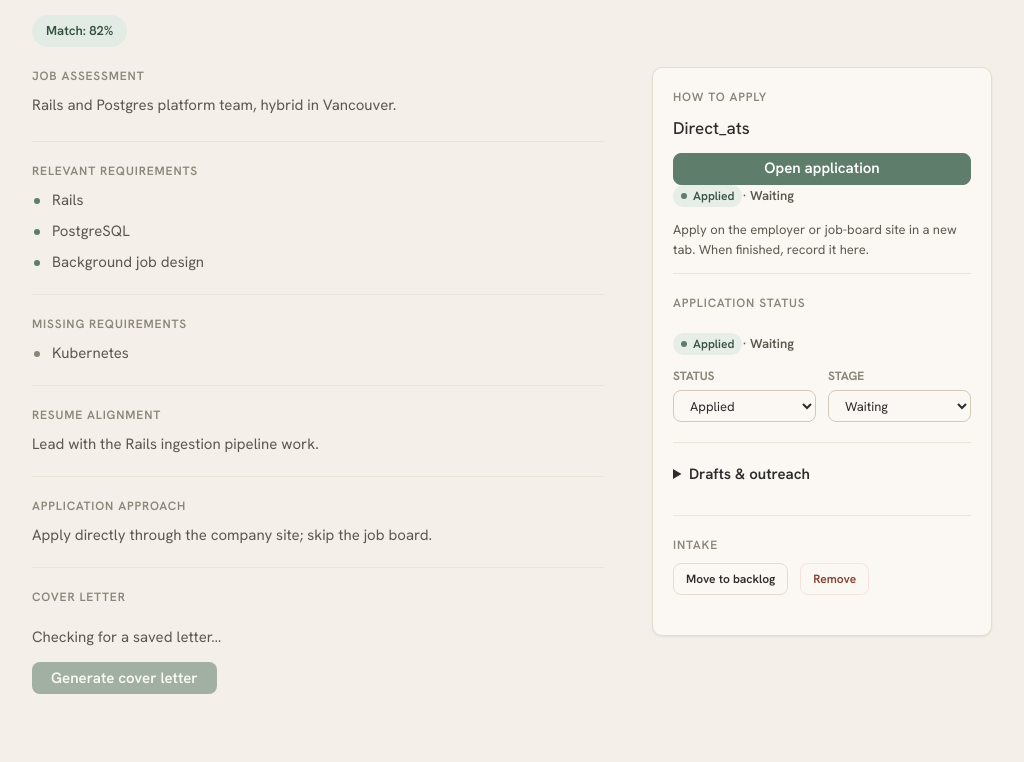
job detail intake controls › reports a failed transition once and leaves the bin alone
(page scrolled)
Click the button "Move to backlog": [731, 579] box x1=673 y1=563 x2=788 y2=595
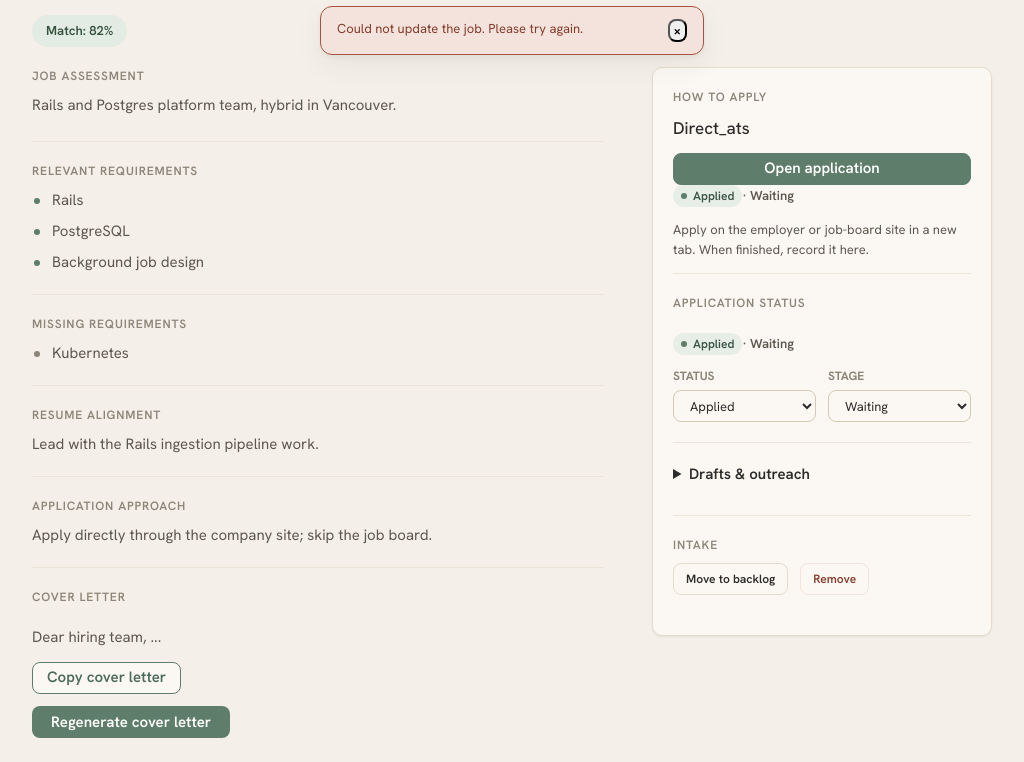
Now the text "Could not update the job. Please try again." is shown, box x1=337 y1=20 x2=583 y2=37
